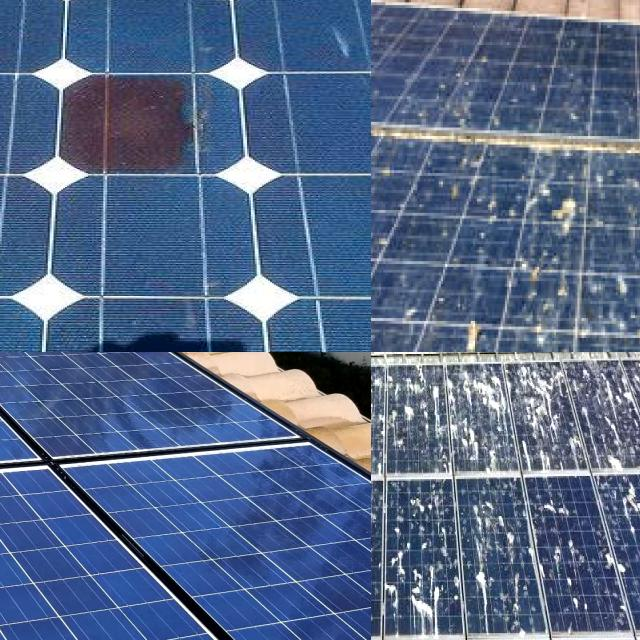bird: (472, 493, 512, 611), (532, 182, 594, 250), (462, 359, 502, 461), (400, 552, 450, 626), (396, 379, 440, 462), (516, 372, 561, 442), (371, 493, 395, 575), (455, 312, 499, 352), (371, 563, 394, 639), (371, 520, 387, 612), (371, 383, 389, 464), (556, 572, 584, 617), (371, 493, 390, 558), (371, 568, 388, 640), (620, 475, 640, 536), (371, 522, 384, 608), (542, 499, 572, 524), (371, 528, 379, 608)
crack: (2, 532, 146, 610), (0, 576, 57, 640), (0, 491, 66, 544), (45, 616, 160, 640), (0, 570, 44, 628), (0, 540, 49, 590), (0, 485, 41, 540), (0, 484, 26, 528)
shadow: (18, 58, 224, 195)
